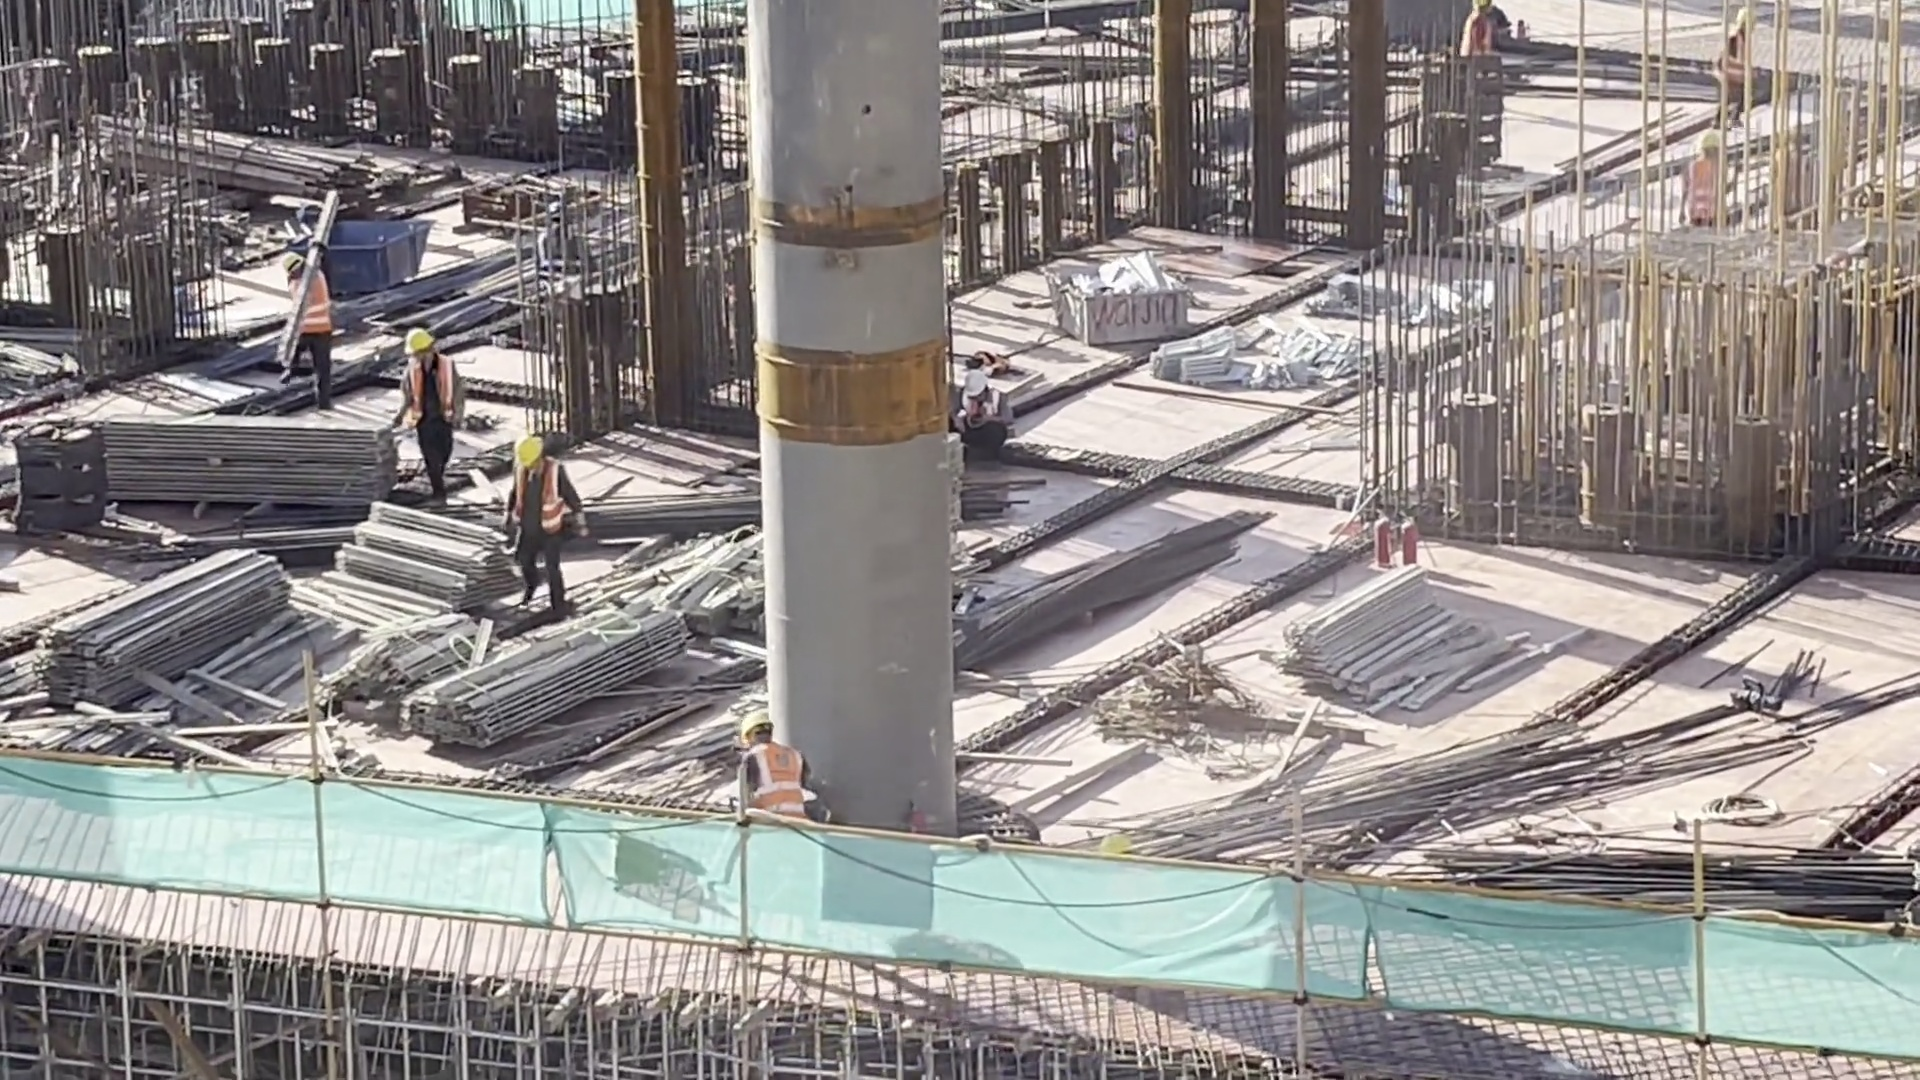helmet: (500, 423, 560, 461), (732, 704, 777, 737), (400, 319, 434, 348), (282, 252, 314, 274), (966, 375, 984, 394)
hopper: (1044, 239, 1201, 346), (288, 208, 438, 294)
person: (493, 431, 585, 631), (254, 242, 362, 408), (386, 323, 467, 500), (726, 716, 844, 834), (947, 363, 1011, 469), (1710, 8, 1766, 116), (1678, 131, 1726, 250), (1459, 6, 1506, 87)
vest: (743, 734, 800, 813), (285, 276, 354, 339), (403, 365, 463, 431), (507, 467, 555, 545)
wood: (403, 591, 704, 757), (41, 538, 292, 711), (86, 394, 395, 526), (1278, 564, 1466, 711), (340, 486, 517, 620)
